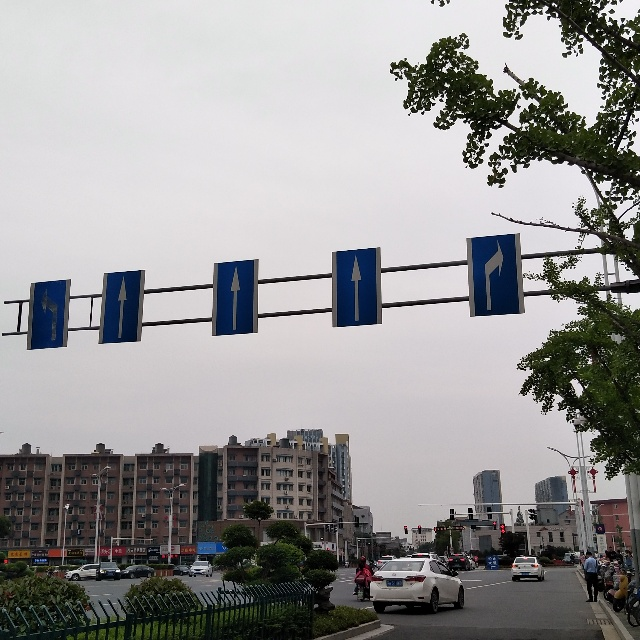left: (27, 279, 71, 350)
right: (465, 233, 525, 318)
straight: (332, 246, 381, 326), (211, 259, 260, 336), (100, 270, 142, 344)
